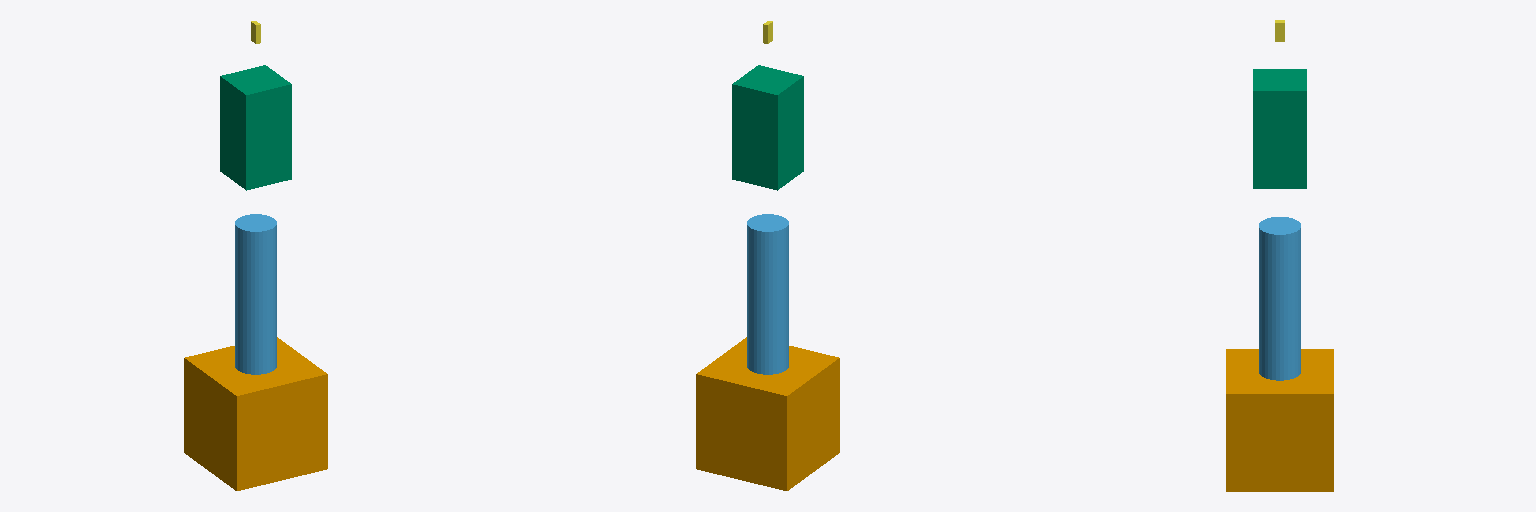
The robot description file, URDF, robot "simple_urdf":
<?xml version="1.0"?>
<robot name="simple_urdf">
  <link name="base_link">
    <inertial><mass value="1"/><inertia ixx="0.01" ixy="0" ixz="0" iyy="0.01" iyz="0" izz="0.01"/></inertial>
    <visual><geometry><box size="0.1 0.1 0.1"/></geometry></visual>
  </link>
  <link name="arm_link">
    <inertial><origin xyz="0 0 0.1"/><mass value="1"/><inertia ixx="0.01" ixy="0" ixz="0" iyy="0.01" iyz="0" izz="0.01"/></inertial>
    <visual><geometry><cylinder radius="0.02" length="0.2"/></geometry></visual>
  </link>
  <link name="hand_link">
    <inertial><mass value="0.5"/><inertia ixx="0.005" ixy="0" ixz="0" iyy="0.005" iyz="0" izz="0.005"/></inertial>
    <visual><geometry><box size="0.05 0.05 0.1"/></geometry></visual>
  </link>
  <link name="finger_link">
    <inertial><mass value="0.05"/><inertia ixx="0.0001" ixy="0" ixz="0" iyy="0.0001" iyz="0" izz="0.0001"/></inertial>
    <visual><geometry><box size="0.005 0.01 0.02"/></geometry></visual>
  </link>
  <joint name="j1" type="revolute">
    <parent link="base_link"/><child link="arm_link"/>
    <origin xyz="0 0 0.1" rpy="0 0 0"/>
    <axis xyz="0 0 1"/><limit lower="-1.5" upper="1.5" effort="10" velocity="1"/>
  </joint>
  <joint name="j2" type="revolute">
    <parent link="arm_link"/><child link="hand_link"/>
    <origin xyz="0 0 0.2" rpy="0 0 0"/>
    <axis xyz="0 1 0"/><limit lower="-1" upper="1" effort="10" velocity="1"/>
  </joint>
  <joint name="j3" type="prismatic">
    <parent link="hand_link"/><child link="finger_link"/>
    <origin xyz="0 0 0.1" rpy="0 0 0"/>
    <axis xyz="0 0 1"/><limit lower="0" upper="0.02" effort="10" velocity="1"/>
  </joint>
  <transmission name="t3">
    <type>transmission_interface/SimpleTransmission</type>
    <joint name="j3"/>
    <actuator name="m3"/>
  </transmission>
</robot>

--- Facts derived from the render (not from the file) ---
Views: 3 orthographic renders of the robot side by side, from view 1: azimuth 30°, elevation 25°; view 2: azimuth 150°, elevation 25°; view 3: azimuth 270°, elevation 25°.
Robot: simple_urdf — 4 links, 3 joints (2 revolute, 1 prismatic); root link base_link; default pose: every joint at zero.
Visible links, largest first — view 1: base_link, hand_link, arm_link; view 2: base_link, hand_link, arm_link; view 3: base_link, arm_link, hand_link.
Link boxes in pixels (bbox=[...]): base_link: bbox=[184, 337, 327, 490]; hand_link: bbox=[220, 65, 291, 190]; arm_link: bbox=[235, 214, 276, 374]; base_link: bbox=[696, 337, 839, 490]; hand_link: bbox=[732, 65, 803, 190]; arm_link: bbox=[747, 214, 788, 374]; base_link: bbox=[1226, 349, 1333, 491]; arm_link: bbox=[1259, 217, 1300, 380]; hand_link: bbox=[1253, 69, 1306, 188].
Size in the robot's own frame: 0.1 by 0.1 by 0.46 metres.
Geometry: primitives only (box / cylinder / sphere), no mesh files.
